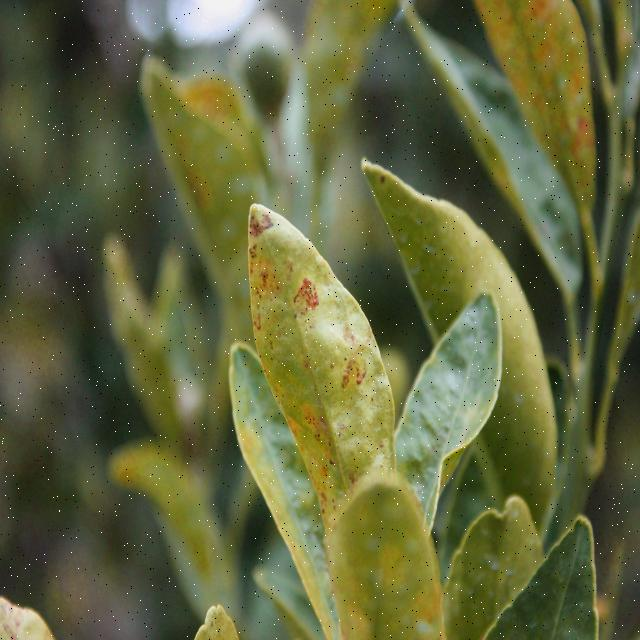canker: (252, 210, 392, 510)
